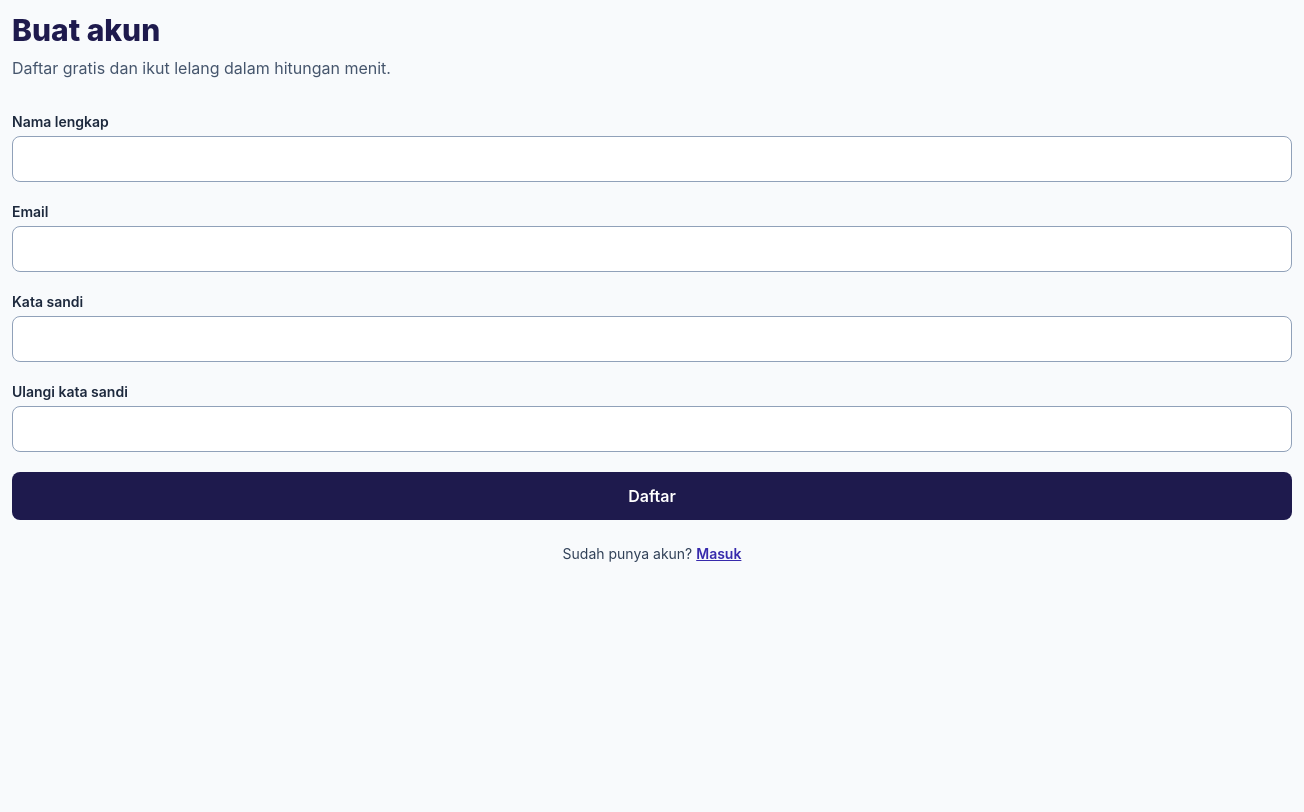
RegisterPage › validasi semua field
In the password field with id "register-password-input": (652,339) x1=12 y1=316 x2=1292 y2=362, type "123"
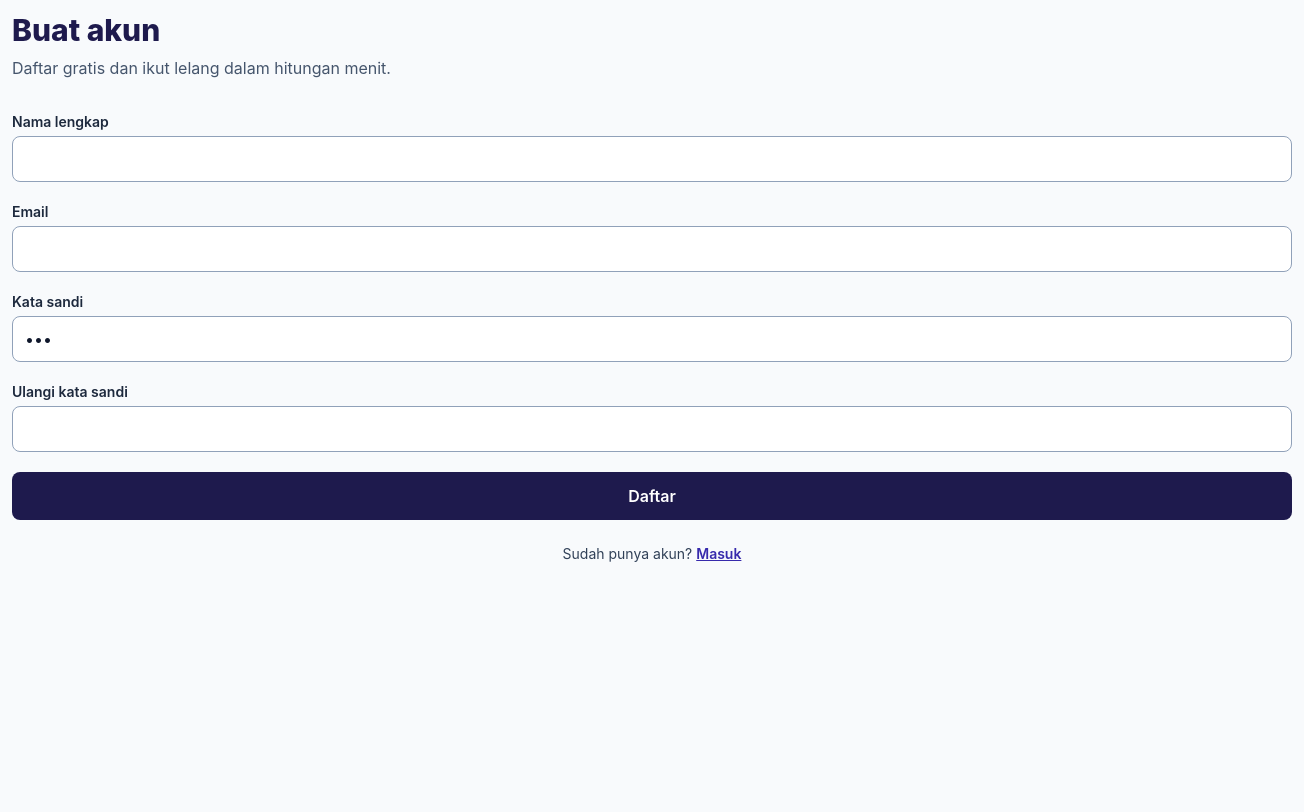
In the password field with id "register-confirmation-input": (652,429) x1=12 y1=406 x2=1292 y2=452, type "999"
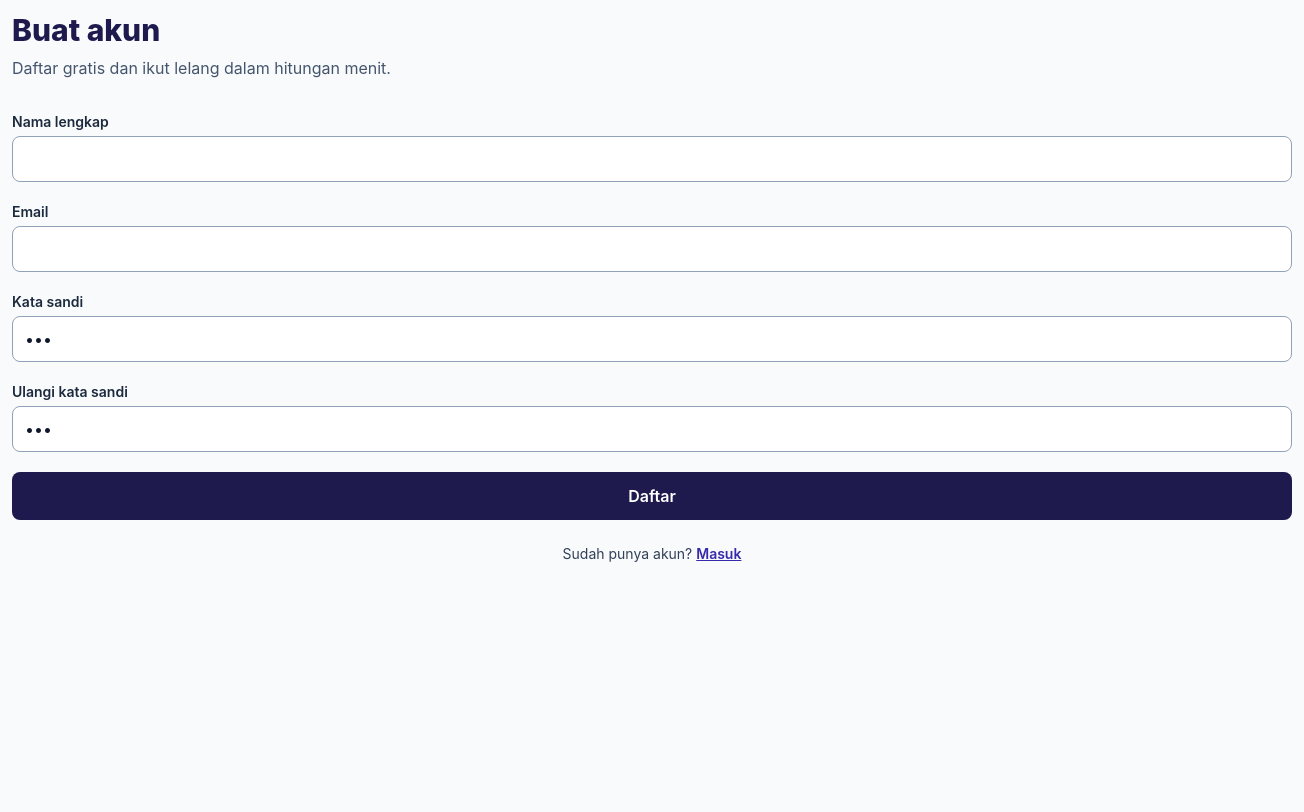
Submit the form, box x1=12 y1=112 x2=1292 y2=520
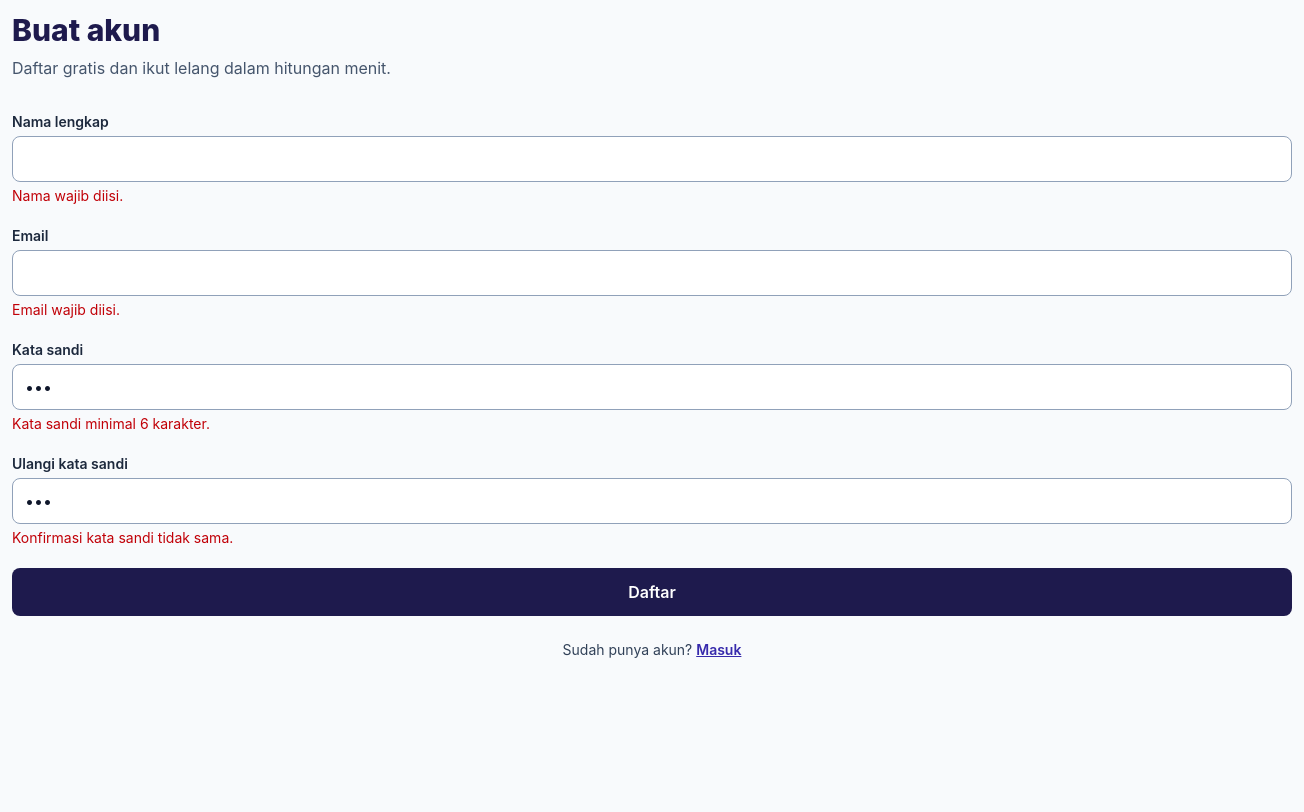
Now the text "Nama wajib diisi." is shown, box x1=12 y1=187 x2=123 y2=204
Now the text "Email wajib diisi." is shown, box x1=12 y1=301 x2=120 y2=318
Now the text "Kata sandi minimal 6 karakter." is shown, box x1=12 y1=415 x2=210 y2=432
